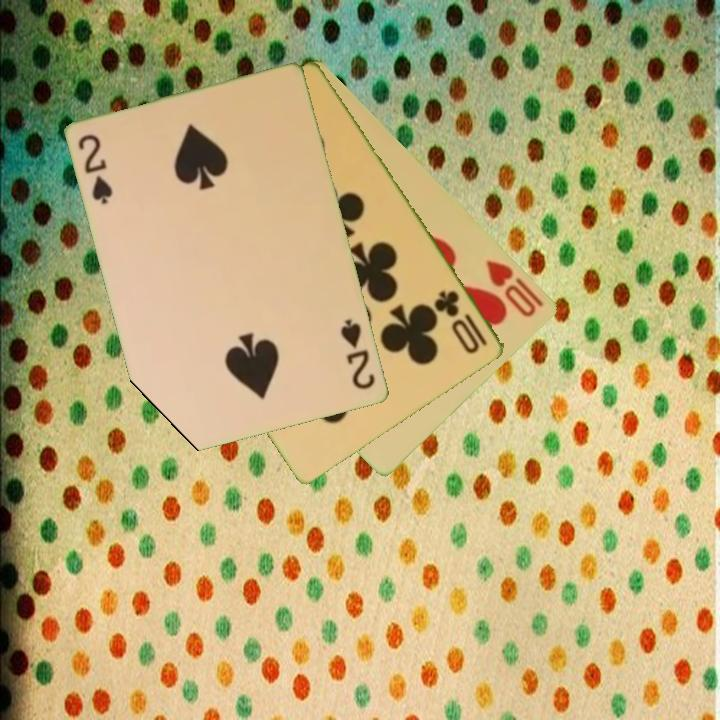10c: (431, 286, 491, 358)
10h: (483, 256, 547, 321)
2s: (337, 315, 379, 393), (75, 131, 116, 208)
